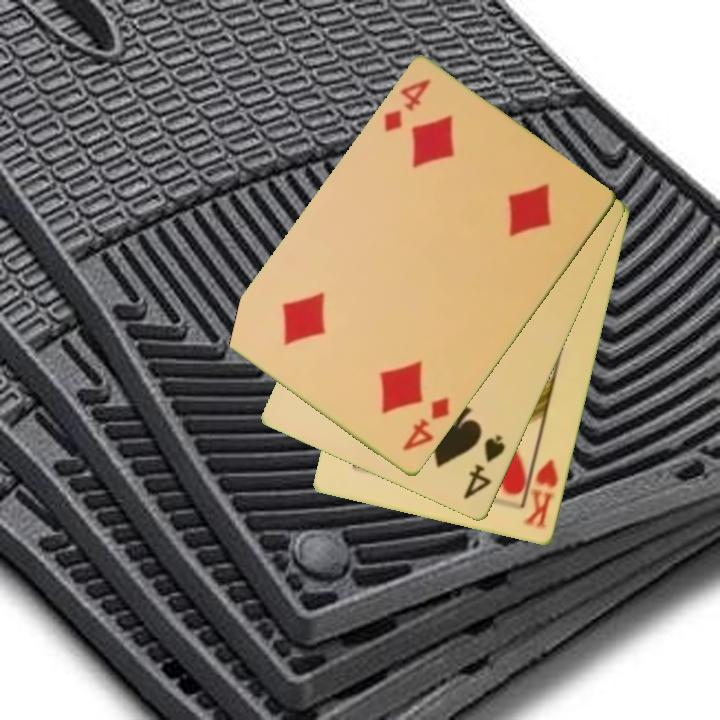4d: (398, 394, 453, 455), (380, 76, 435, 136)
4s: (460, 432, 509, 504)
Kh: (519, 448, 562, 532)
